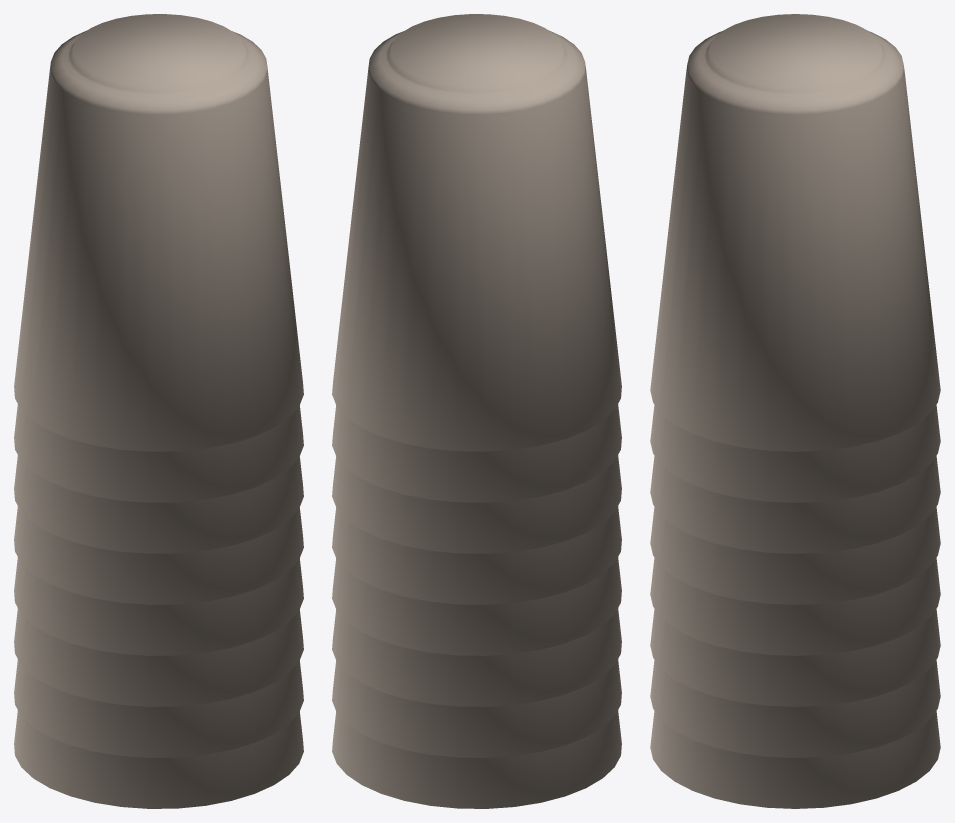
Rendered from stack of cups1.fbx.
3 renders of one model, left to right at view 1: azimuth 30°, elevation 25°; view 2: azimuth 150°, elevation 25°; view 3: azimuth 270°, elevation 25°, orthographic.
Parts seen in each view (by area): view 1: Cylinder; view 2: Cylinder; view 3: Cylinder.
Part boxes in pixels (bbox=[...]): Cylinder: bbox=[14, 14, 303, 808]; Cylinder: bbox=[332, 14, 621, 808]; Cylinder: bbox=[650, 14, 940, 808].
Bounding box in the file's own units: 187 × 495 × 187.
